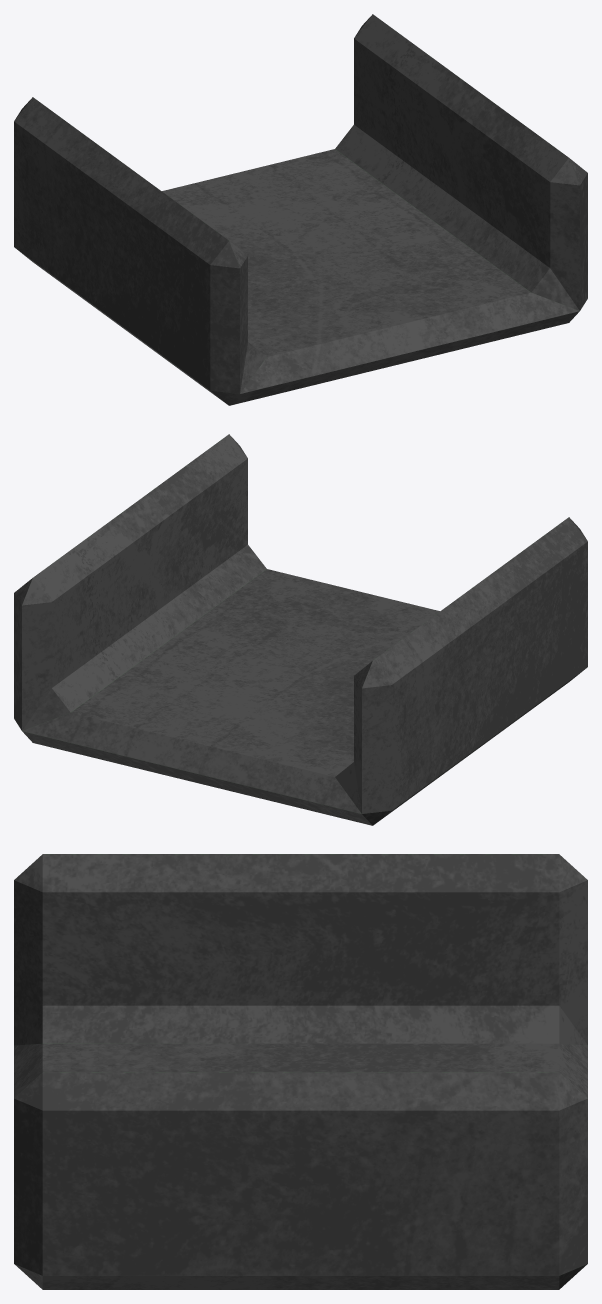
The model's file is fitting 2.fbx.
3 renders of one model, top to bottom at view 1: azimuth 30°, elevation 25°; view 2: azimuth 150°, elevation 25°; view 3: azimuth 270°, elevation 25°, orthographic. The views are drawn at different scales.
Parts seen in each view (by area): view 1: fittings 2; view 2: fittings 2; view 3: fittings 2.
Boxes of the visible parts, x1,y1,x2,y2 form: fittings 2: [14, 14, 587, 405]; fittings 2: [14, 434, 587, 825]; fittings 2: [14, 854, 587, 1289].
Bounding box in the file's own units: 881 × 368 × 881.
